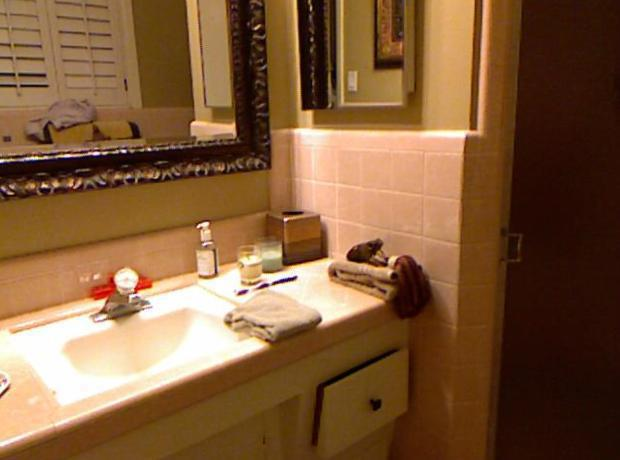Lavamanos: (10, 265, 274, 431)
